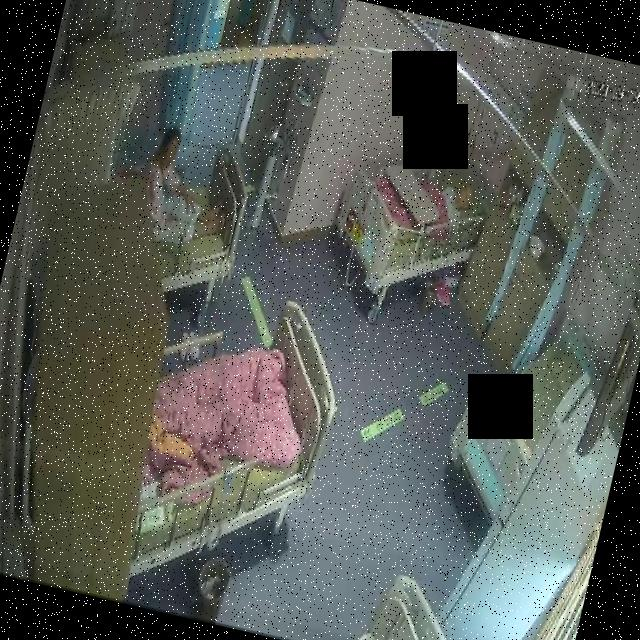bed: (120, 282, 350, 580), (327, 122, 500, 301), (452, 298, 597, 497), (130, 128, 260, 296)
patient: (140, 123, 240, 254), (427, 177, 480, 231)
sit: (132, 123, 242, 258)
